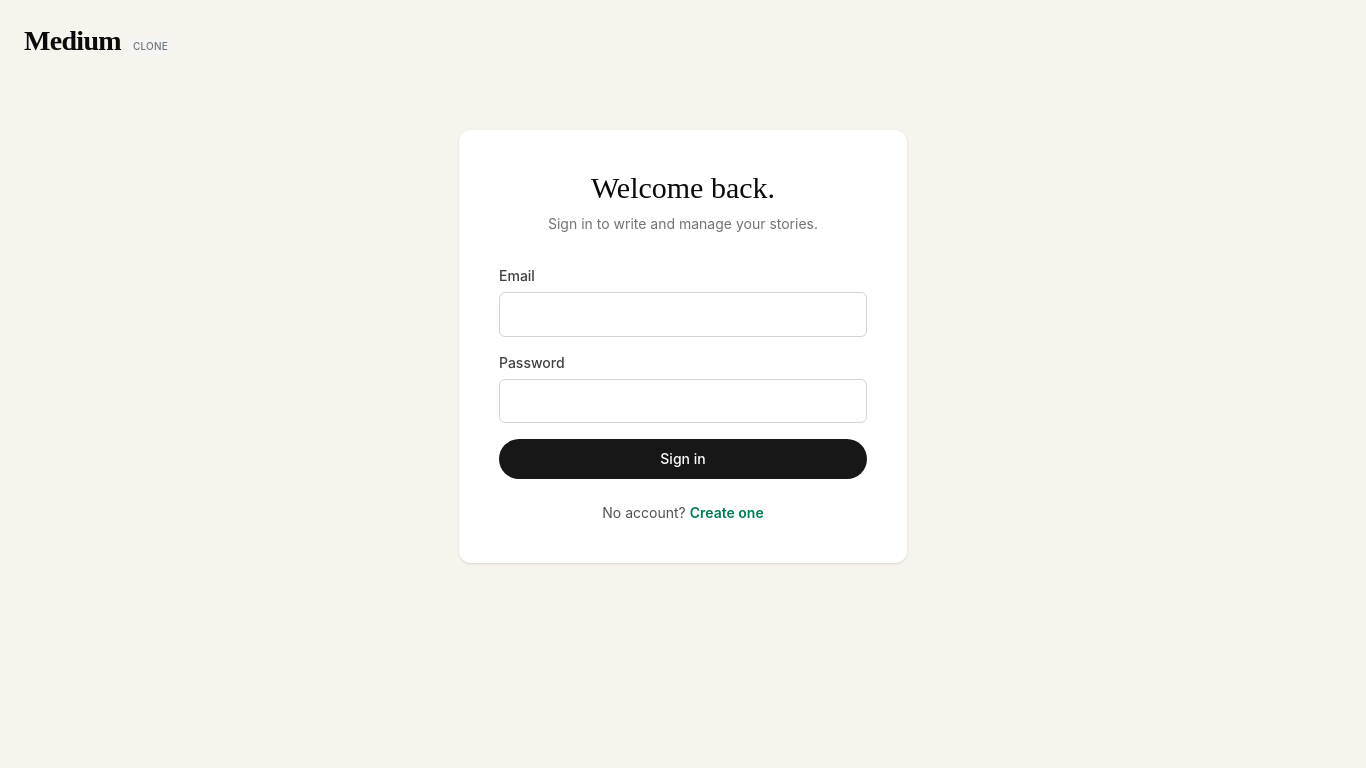
Test: auth › stores the token (not the whole response) and goes home after sign in
Type "ada@example.com" into the field labelled "Email" at (683, 314), box [499,292,867,336]
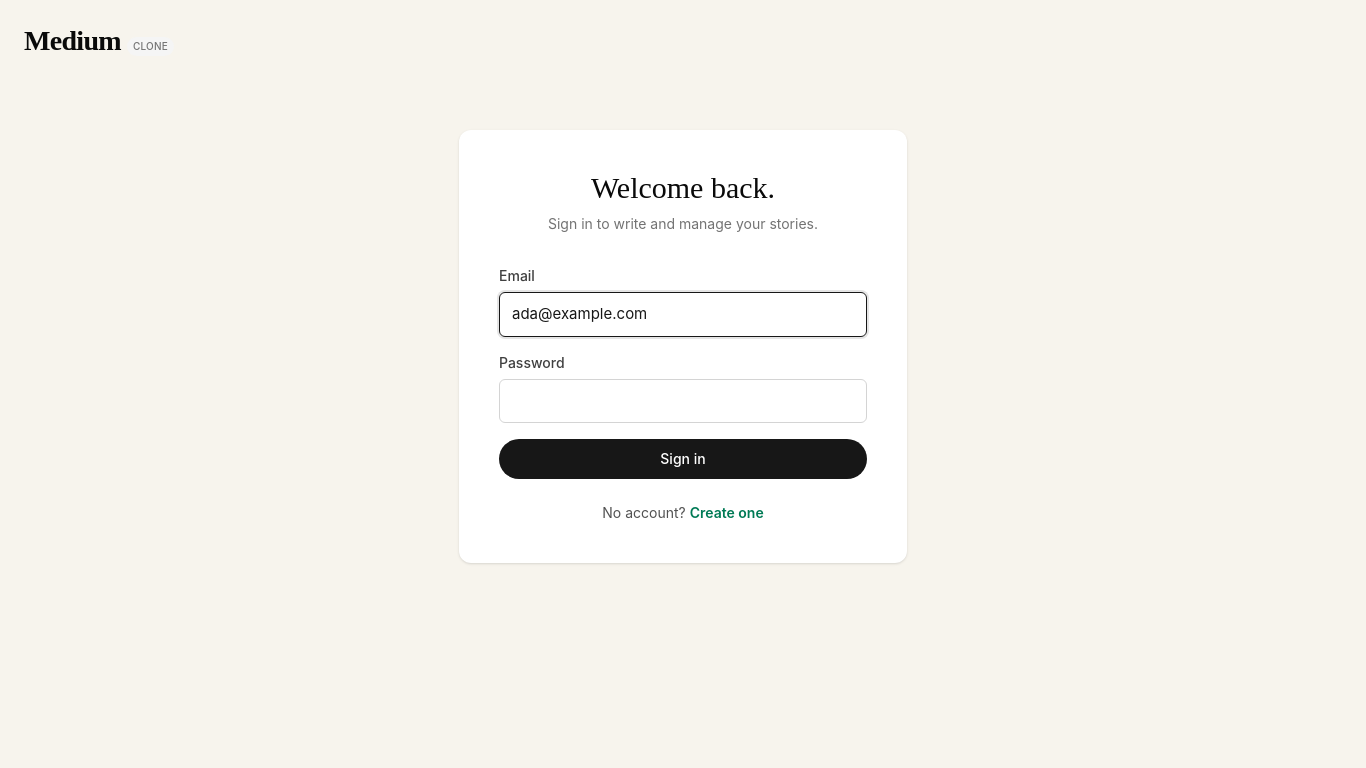
Type "password123" into the password field labelled "Password" at (683, 401), box [499,378,867,423]
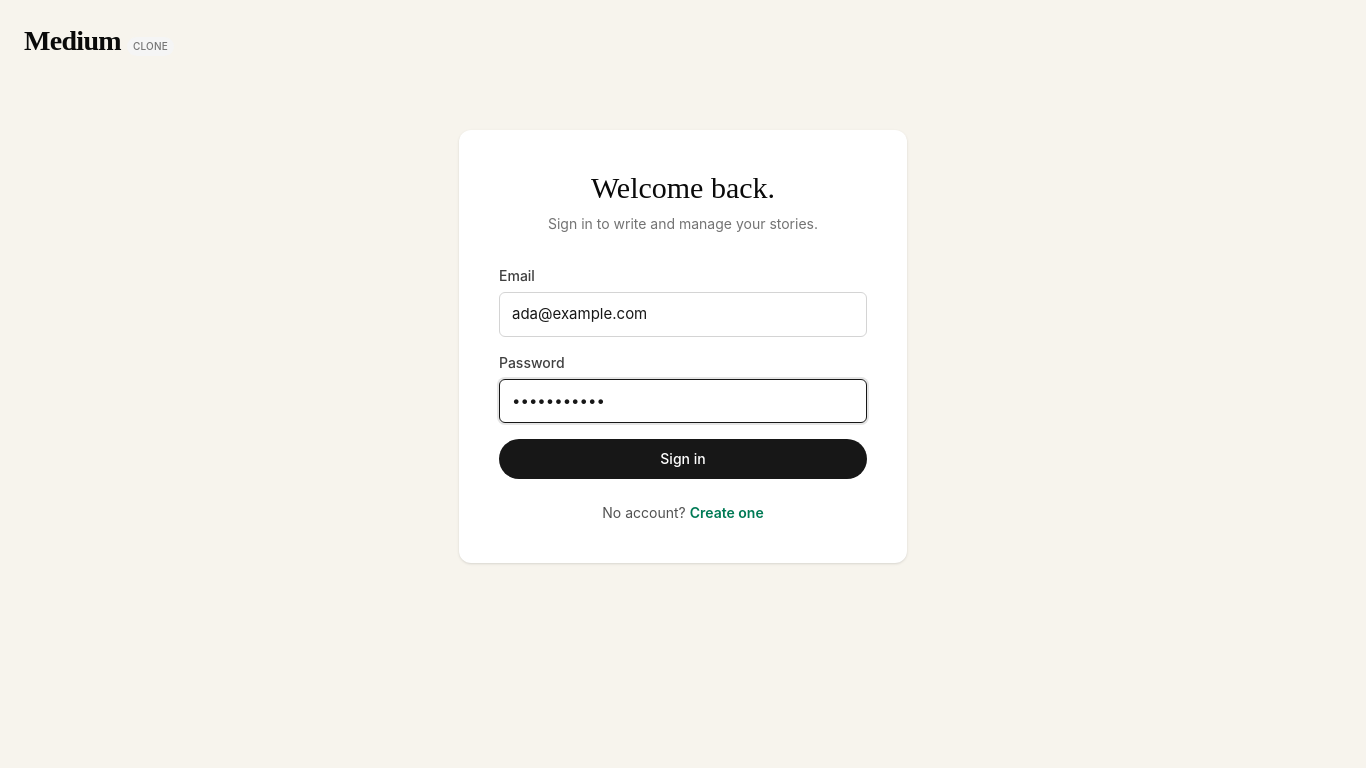
Click the button "Sign in" at (683, 459), box [499,439,867,479]
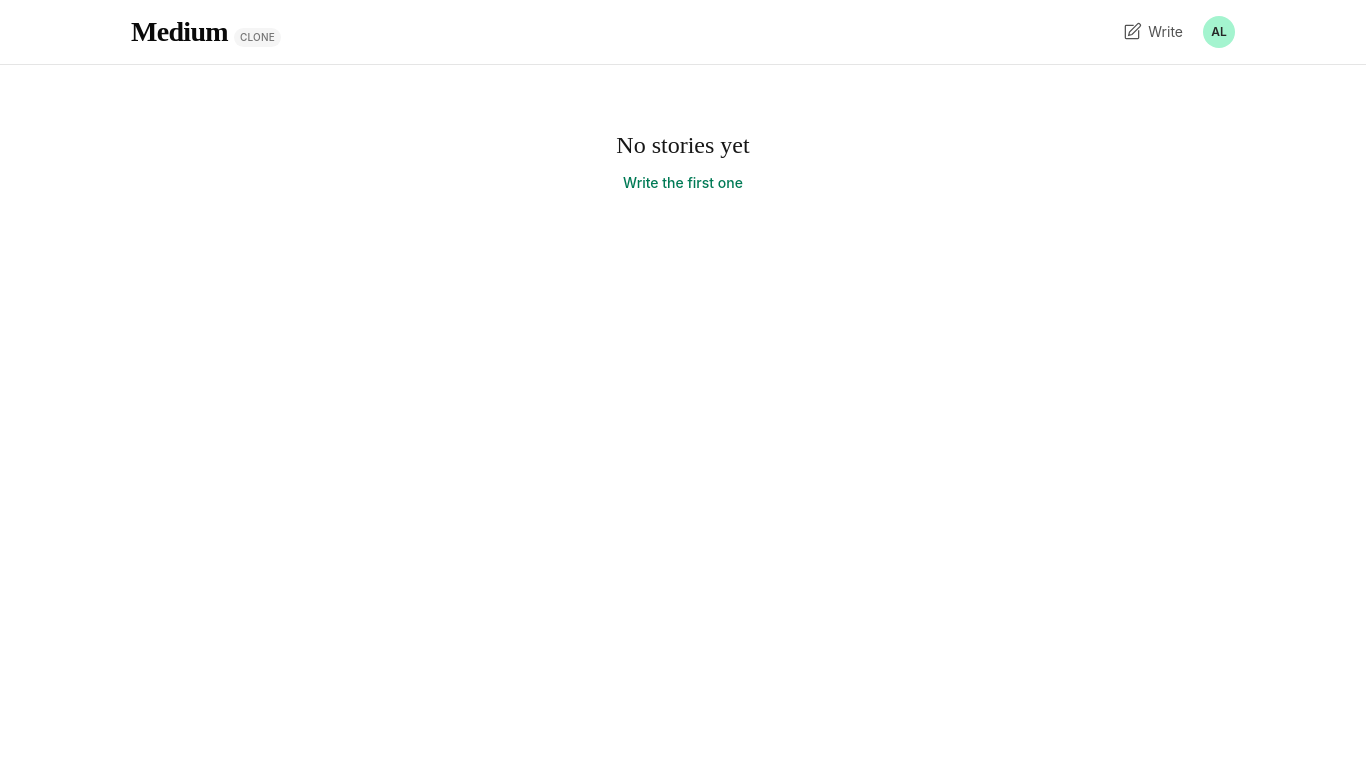
Now the text "No stories yet" is shown, box [616,132,750,158]
